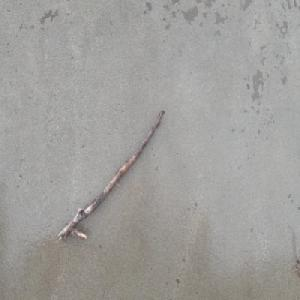Wood: (57, 108, 166, 243)
